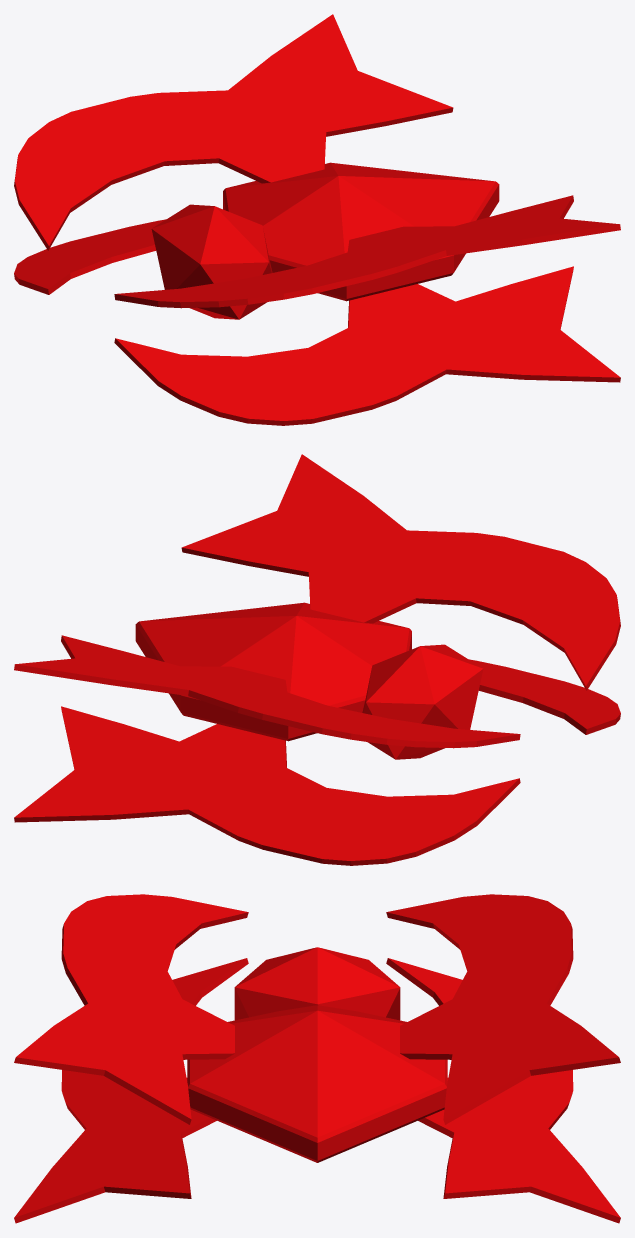
File: butterfry.fbx
3 views of the same model, one above another, from view 1: azimuth 30°, elevation 25°; view 2: azimuth 150°, elevation 25°; view 3: azimuth 270°, elevation 25° (orthographic). The views are drawn at different scales.
Parts seen in each view (by area): view 1: butterfry; view 2: butterfry; view 3: butterfry.
Boxes of the visible parts, x1,y1,x2,y2 form: butterfry: (14,14,620,425); butterfry: (14,454,620,865); butterfry: (14,894,620,1223).
Size of the model in its own units: 805 by 282 by 933.
